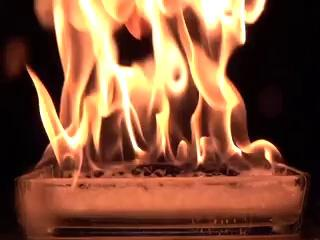Fire: (8, 1, 270, 186)
